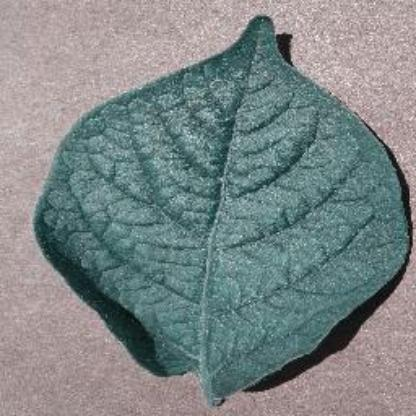Healthy-plant: (33, 12, 415, 408)
